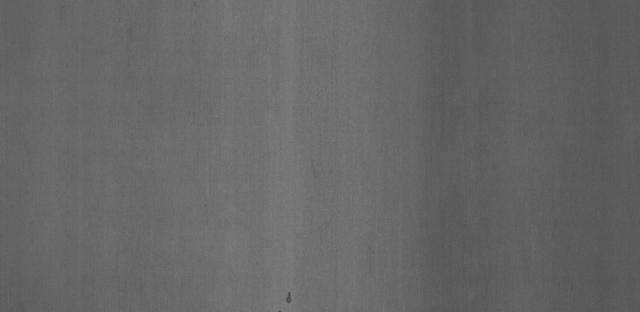inclusion: (280, 286, 300, 306)
